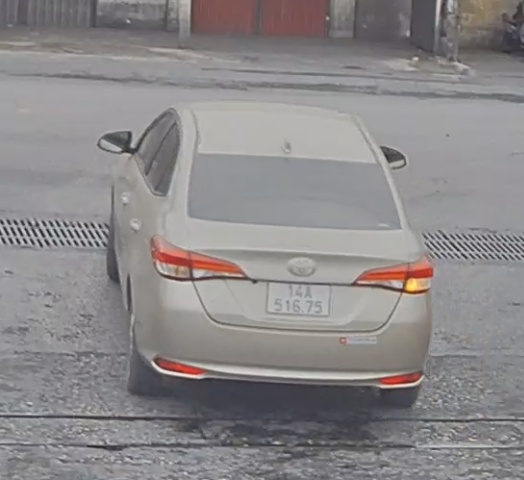vehicle plate: (265, 278, 333, 317)
